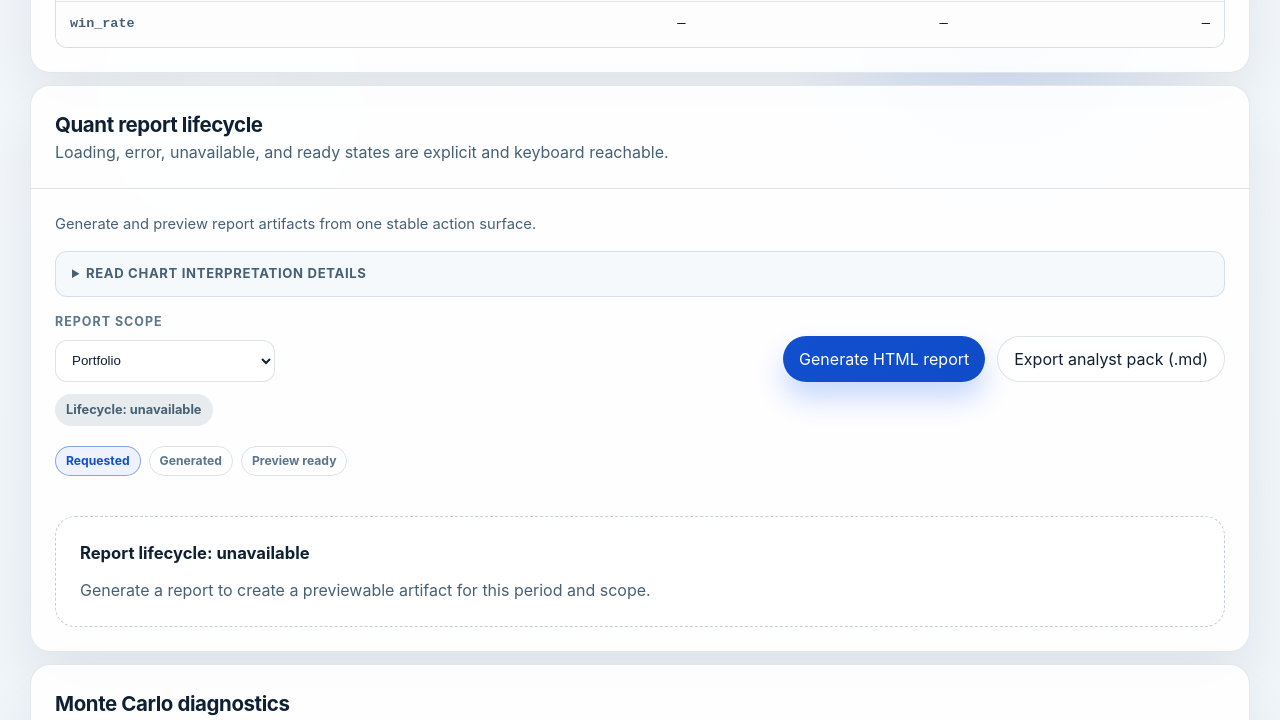
PortfolioReportsPage › validates instrument-scope requests without symbol input
The width and height of the screenshot is (1280, 720).
(page scrolled)
Select "Instrument" in the dropdown labelled "Report scope". click: point(165, 361)
box: top-left (55, 340), bottom-right (275, 382)
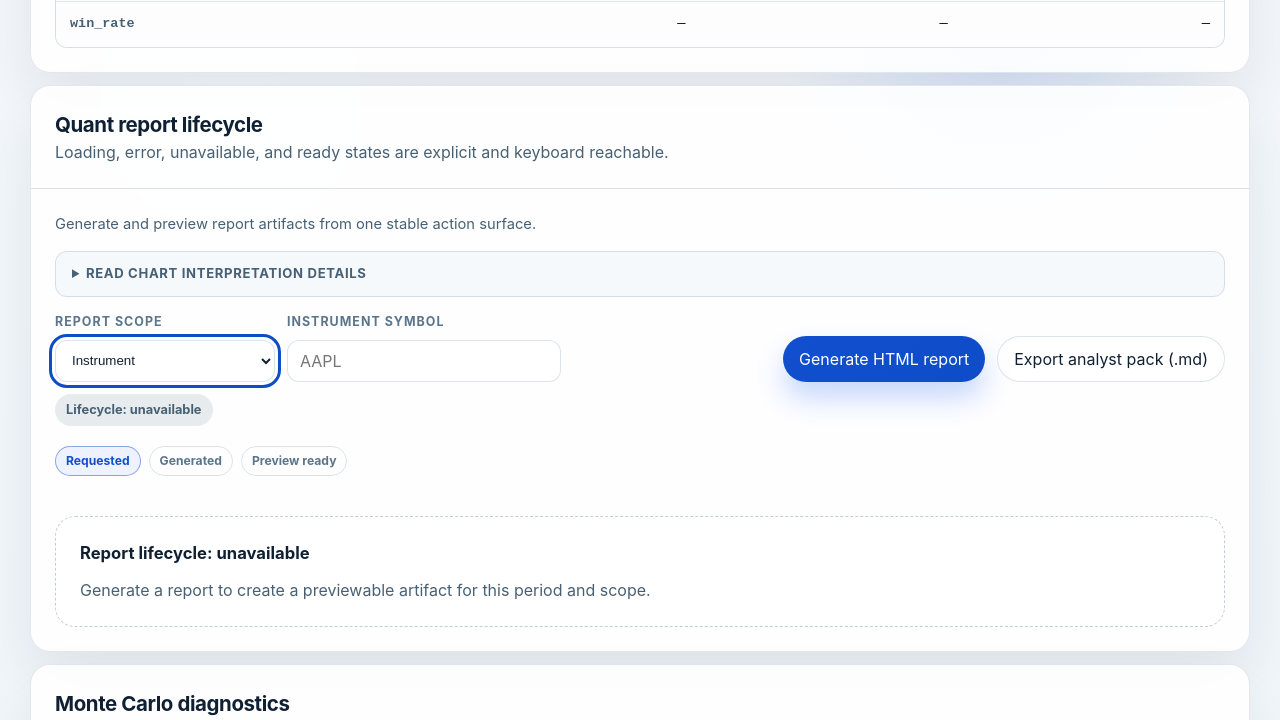
Click the button "Generate HTML report". click: point(884, 359)
box: top-left (783, 336), bottom-right (985, 382)
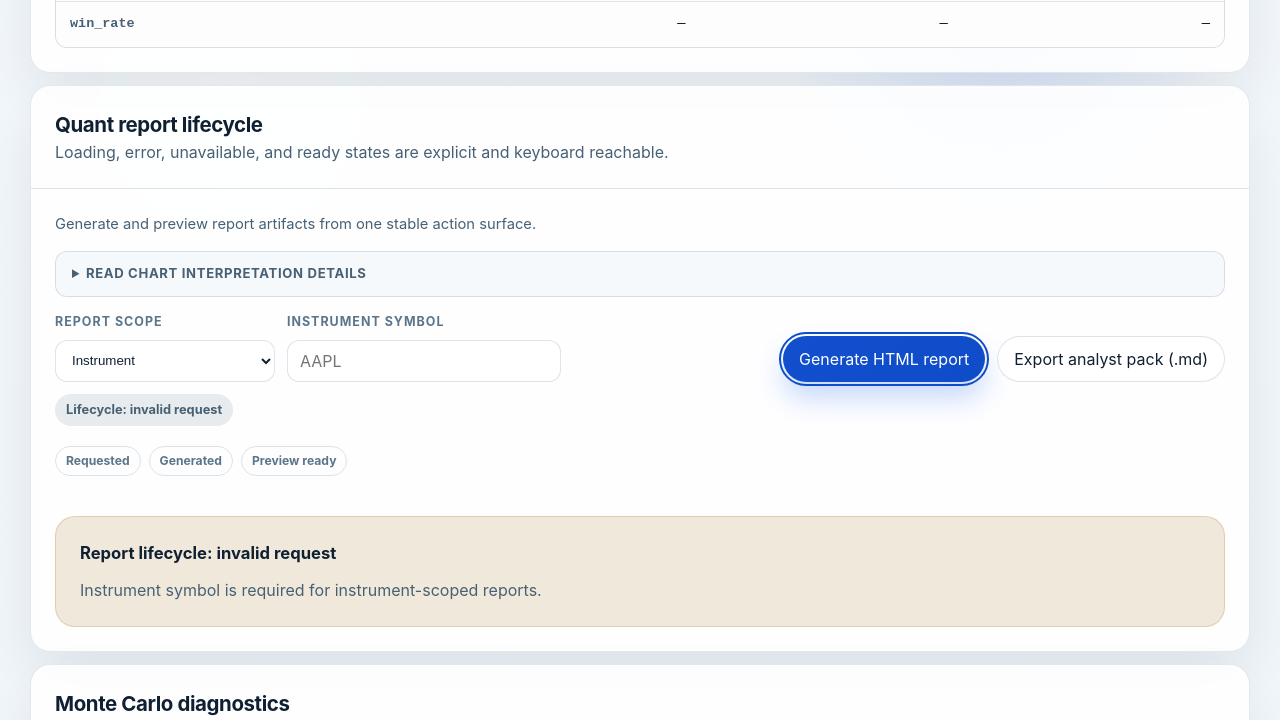
Now the text "Instrument symbol is required for instrument-scoped reports." is shown, box top-left (80, 580), bottom-right (542, 600)
